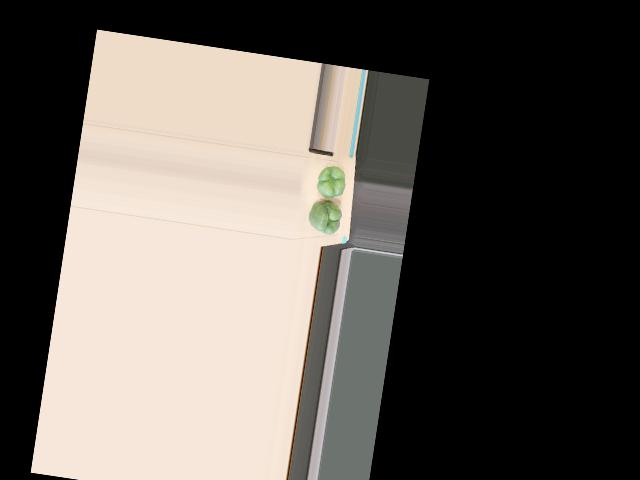bell_pepper: (311, 164, 348, 200)
